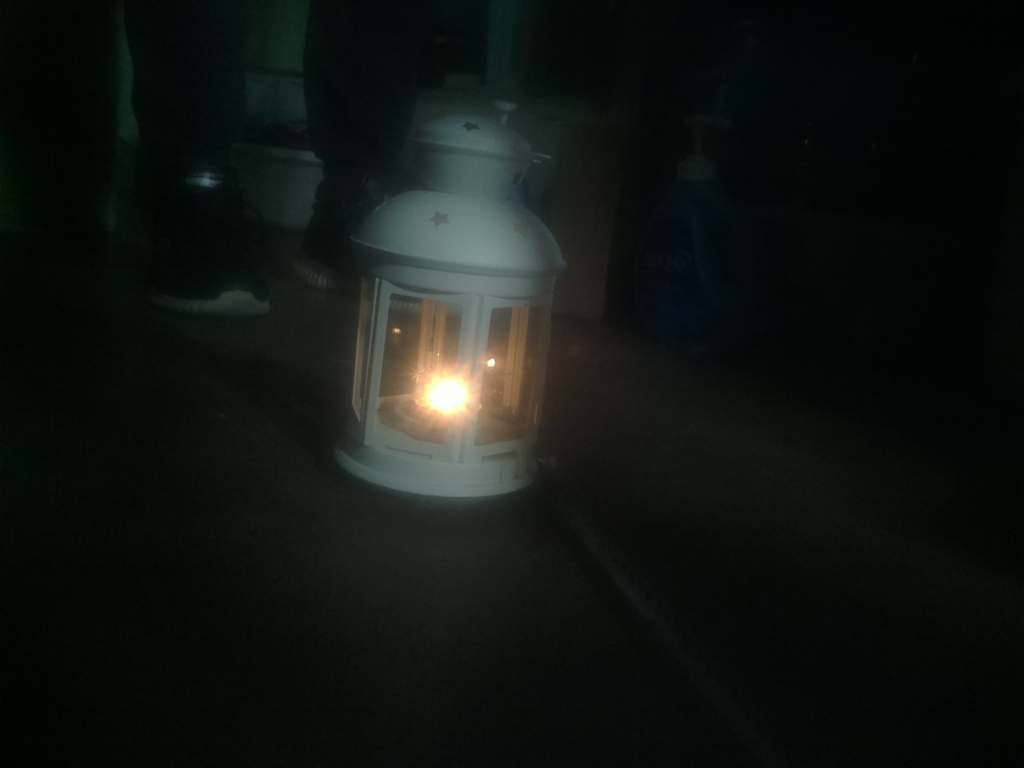fire: (390, 351, 515, 444)
